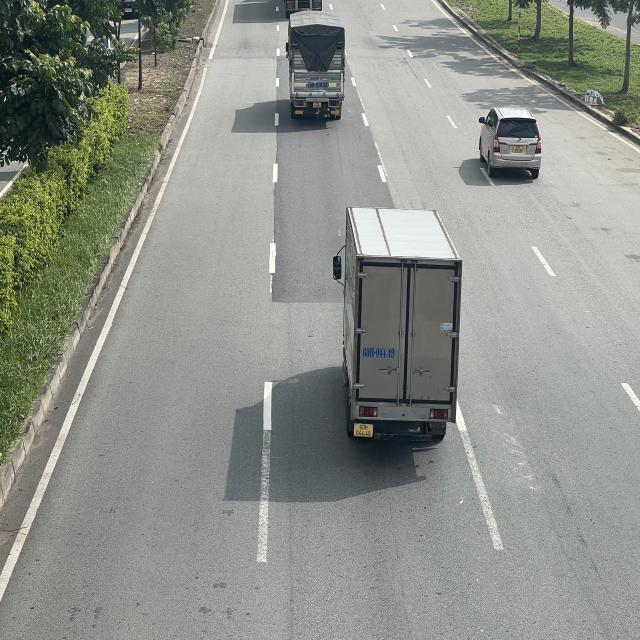car: (477, 108, 542, 181)
truck: (338, 204, 466, 443), (288, 13, 348, 122)
